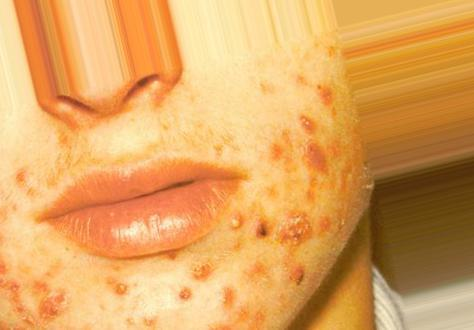Acne: (296, 115, 354, 218), (226, 213, 274, 279), (19, 271, 71, 315), (281, 197, 310, 270), (192, 257, 222, 300), (168, 282, 200, 318), (323, 74, 348, 115), (109, 267, 131, 313), (267, 137, 286, 179)
